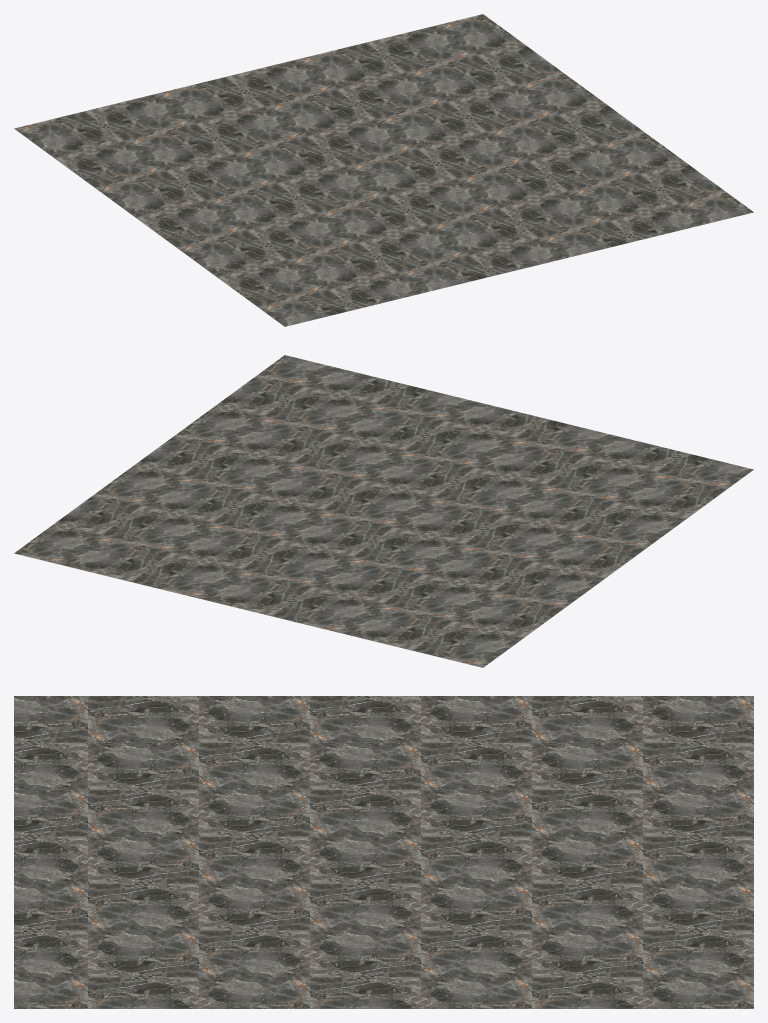
File: noctyra-120x120.glb
3 renders of one model, top to bottom at view 1: azimuth 30°, elevation 25°; view 2: azimuth 150°, elevation 25°; view 3: azimuth 270°, elevation 25°, orthographic. The views are drawn at different scales.
Parts seen in each view (by area): view 1: Noctyra; view 2: Noctyra; view 3: Noctyra.
Boxes of the visible parts, x1,y1,x2,y2 form: Noctyra: (14,14,753,326); Noctyra: (14,355,753,667); Noctyra: (14,696,753,1008).
Bounding box in the file's own units: 8 × 0.003 × 8.
2 materials, 1 textured.
